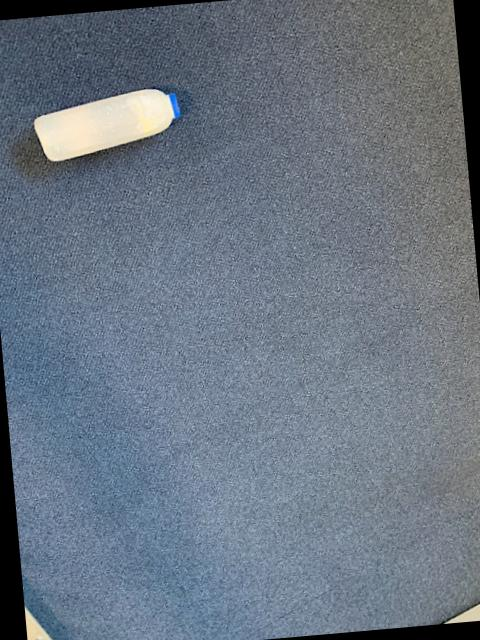plastic: (33, 90, 178, 162)
